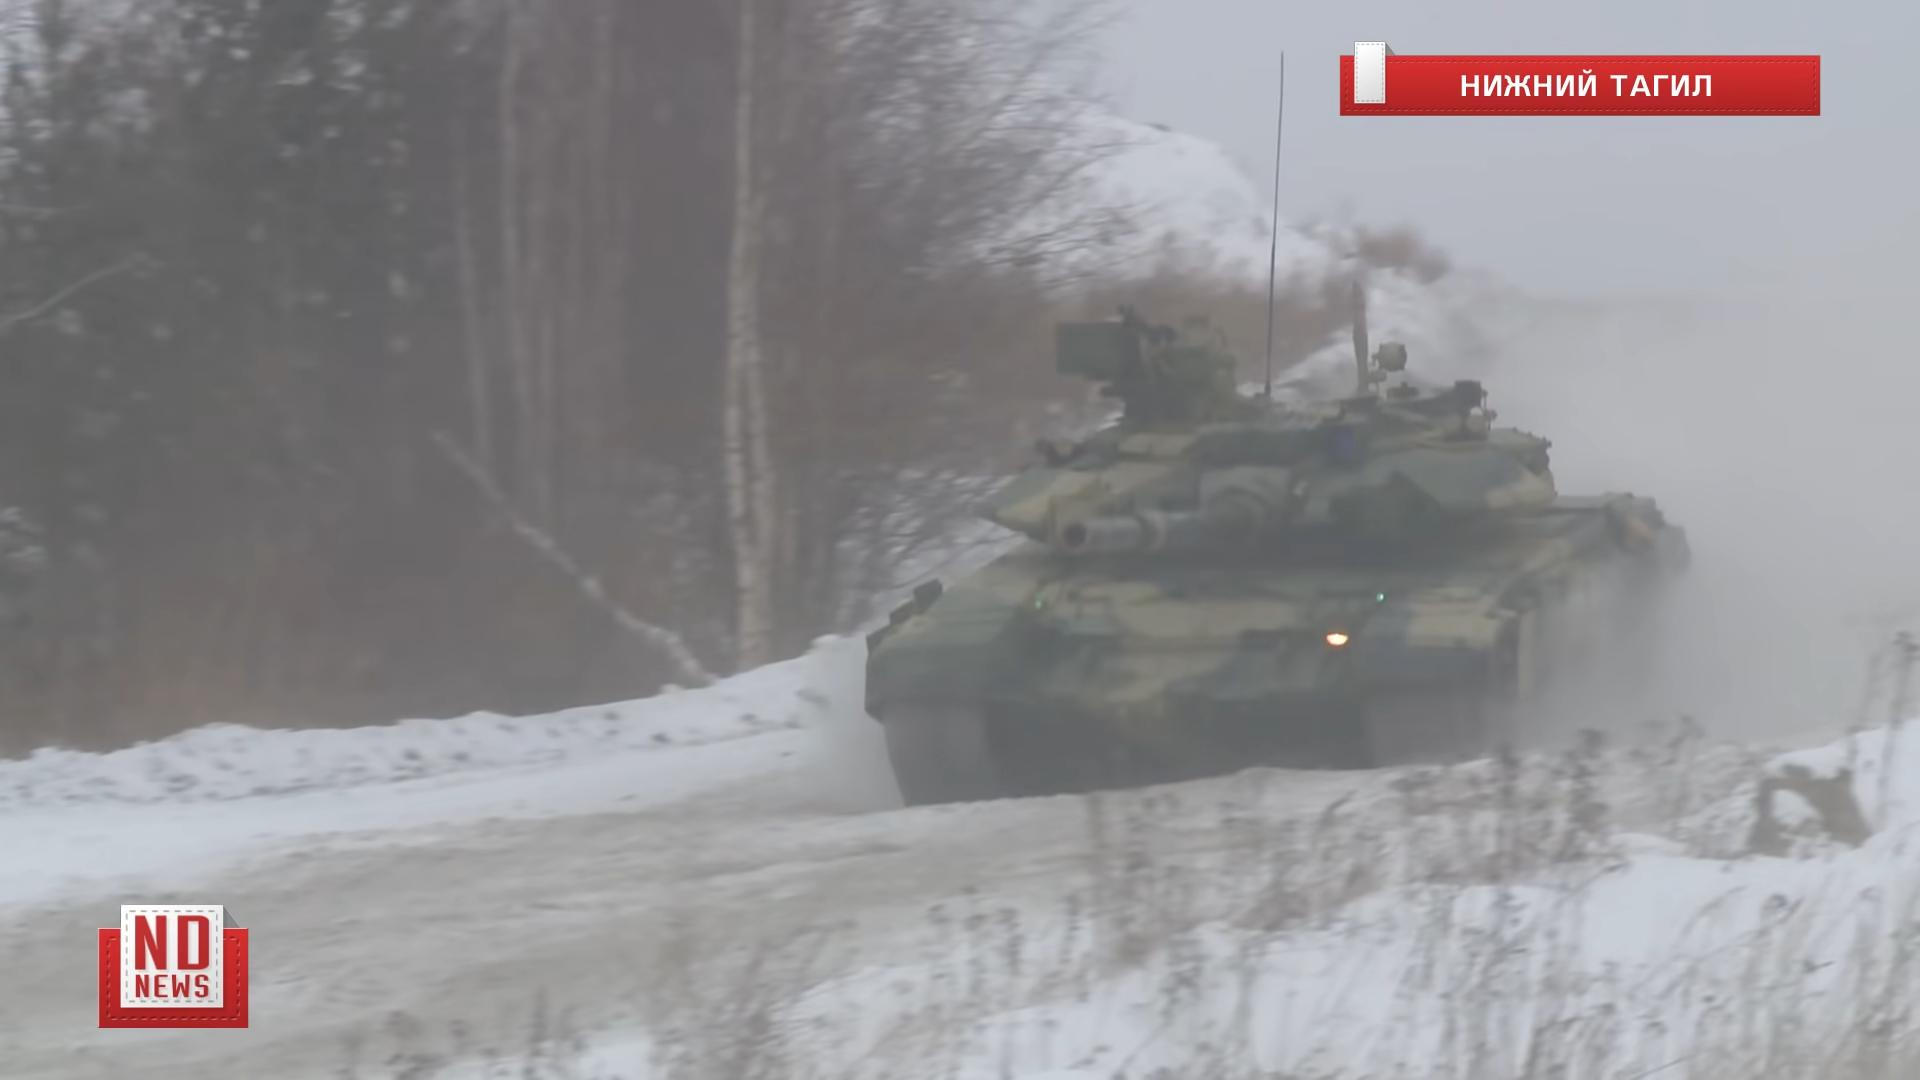tank: (865, 316, 1700, 807)
